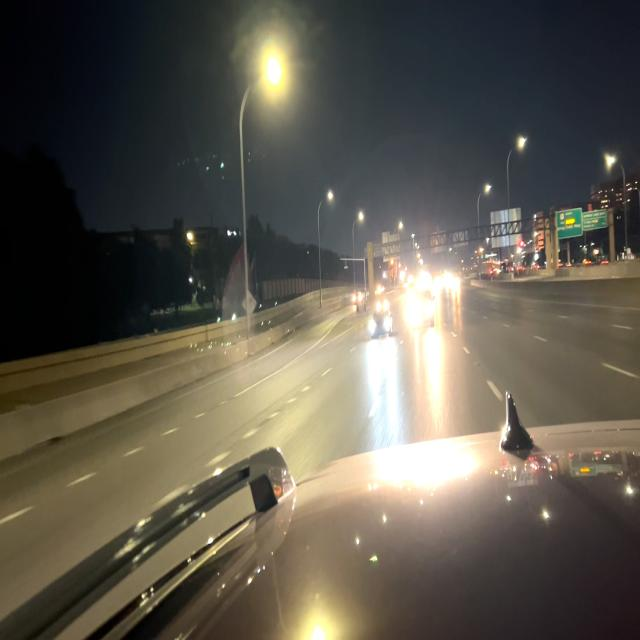back-of-sign: (489, 206, 524, 250), (382, 229, 402, 263), (428, 225, 448, 258), (452, 225, 470, 252), (243, 291, 257, 319)
